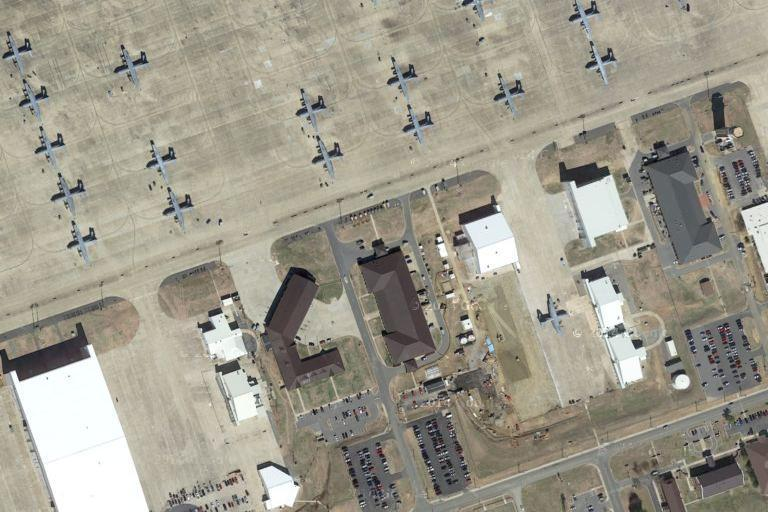C-130: (491, 71, 530, 117), (113, 41, 149, 90), (65, 220, 105, 264), (49, 171, 88, 216), (161, 185, 197, 233), (384, 55, 423, 99), (3, 28, 37, 76), (293, 86, 329, 131), (310, 134, 346, 179), (400, 102, 436, 147), (143, 138, 179, 182), (17, 78, 54, 120), (32, 126, 67, 169), (585, 41, 620, 84), (536, 292, 571, 334), (566, 1, 602, 35)
